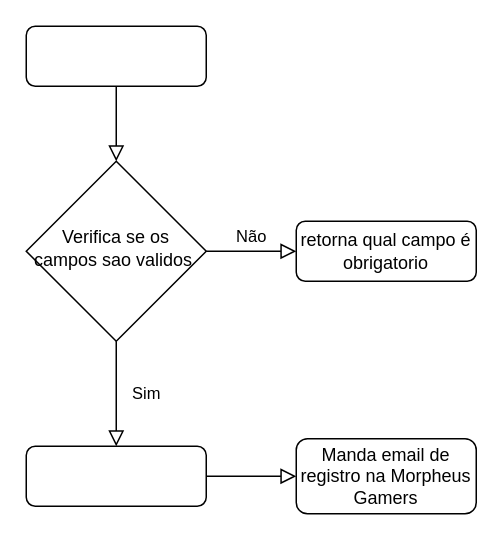
This 503x540 diagram has some shape labels left out. The shapes that lost their labels are listed below. From the top down, each one's centre as x and y in pixels, then its label:
point (115, 55): Cadastra Cliente
point (115, 475): Registra os valores na tabela de cliente
